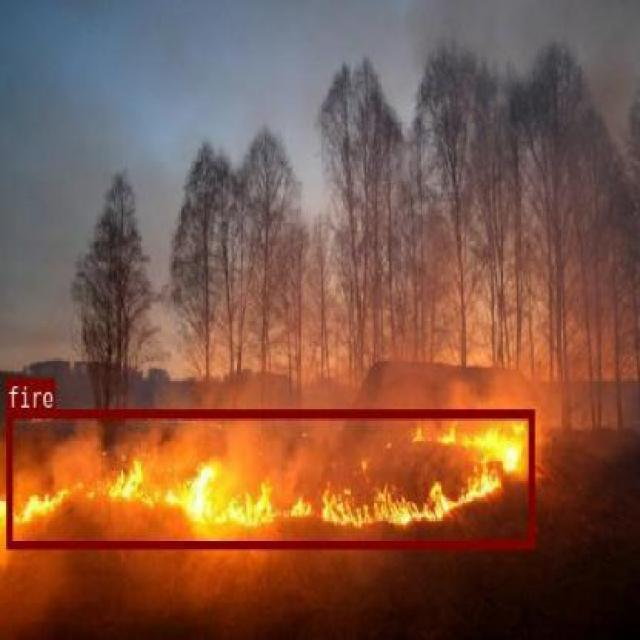Smoke: (5, 408, 533, 547)
